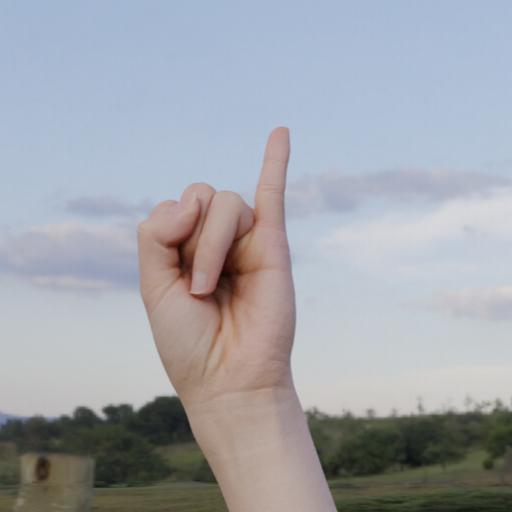I: (134, 122, 302, 396)
